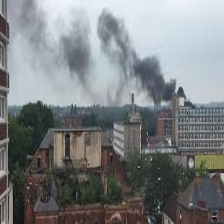smoke: (8, 1, 196, 106)
